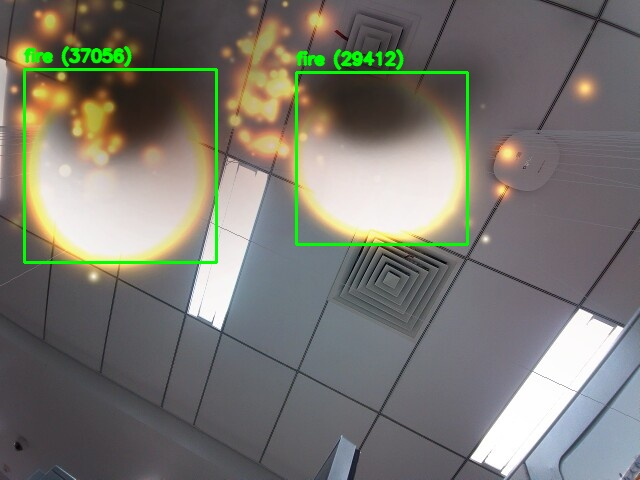fire: (24, 69, 216, 262), (296, 72, 467, 244)
